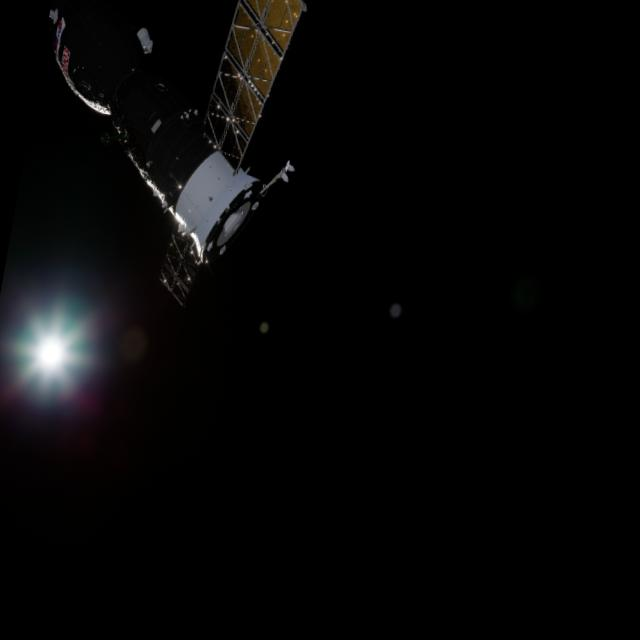Satellites revolving around earth: (5, 0, 326, 324)
